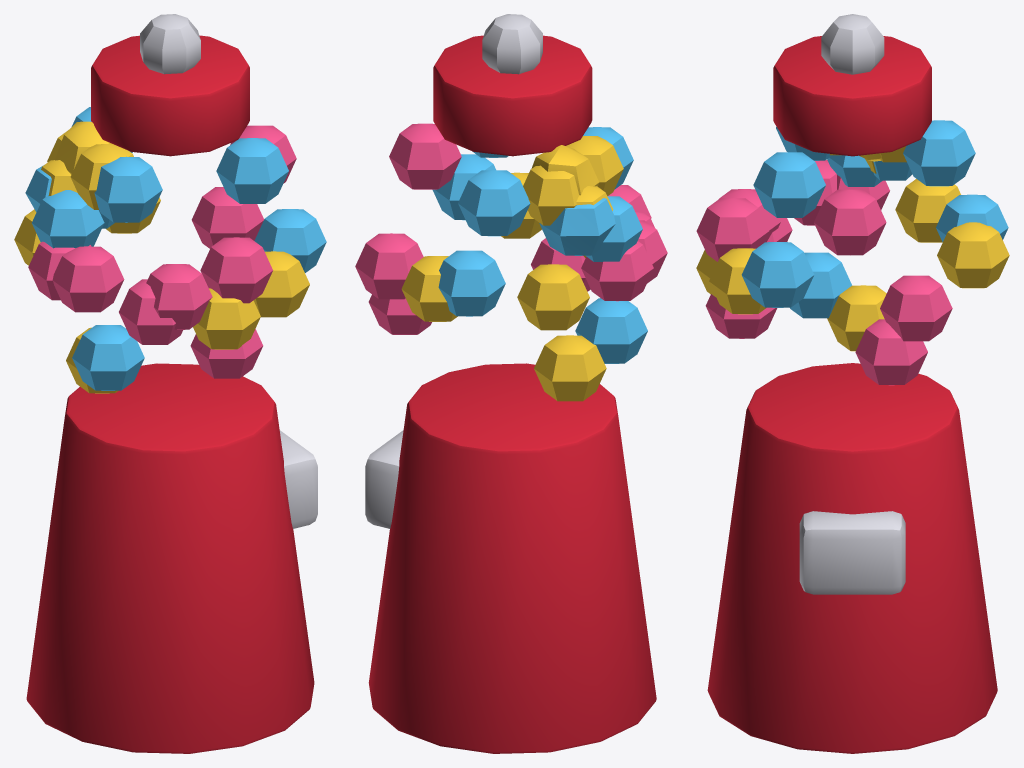
The model's file is MidCandy.fbx.
The picture shows the model from 3 angles, left to right: view 1: azimuth 30°, elevation 25°; view 2: azimuth 150°, elevation 25°; view 3: azimuth 270°, elevation 25°; orthographic projection.
Parts seen in each view (by area): view 1: MidCandy; view 2: MidCandy; view 3: MidCandy.
Boxes of the visible parts, box(x1,y1,x2,y2) form: MidCandy: box(14, 14, 326, 753); MidCandy: box(355, 14, 667, 753); MidCandy: box(696, 14, 1009, 753).
Size of the model in its own units: 226 by 565 by 237.
